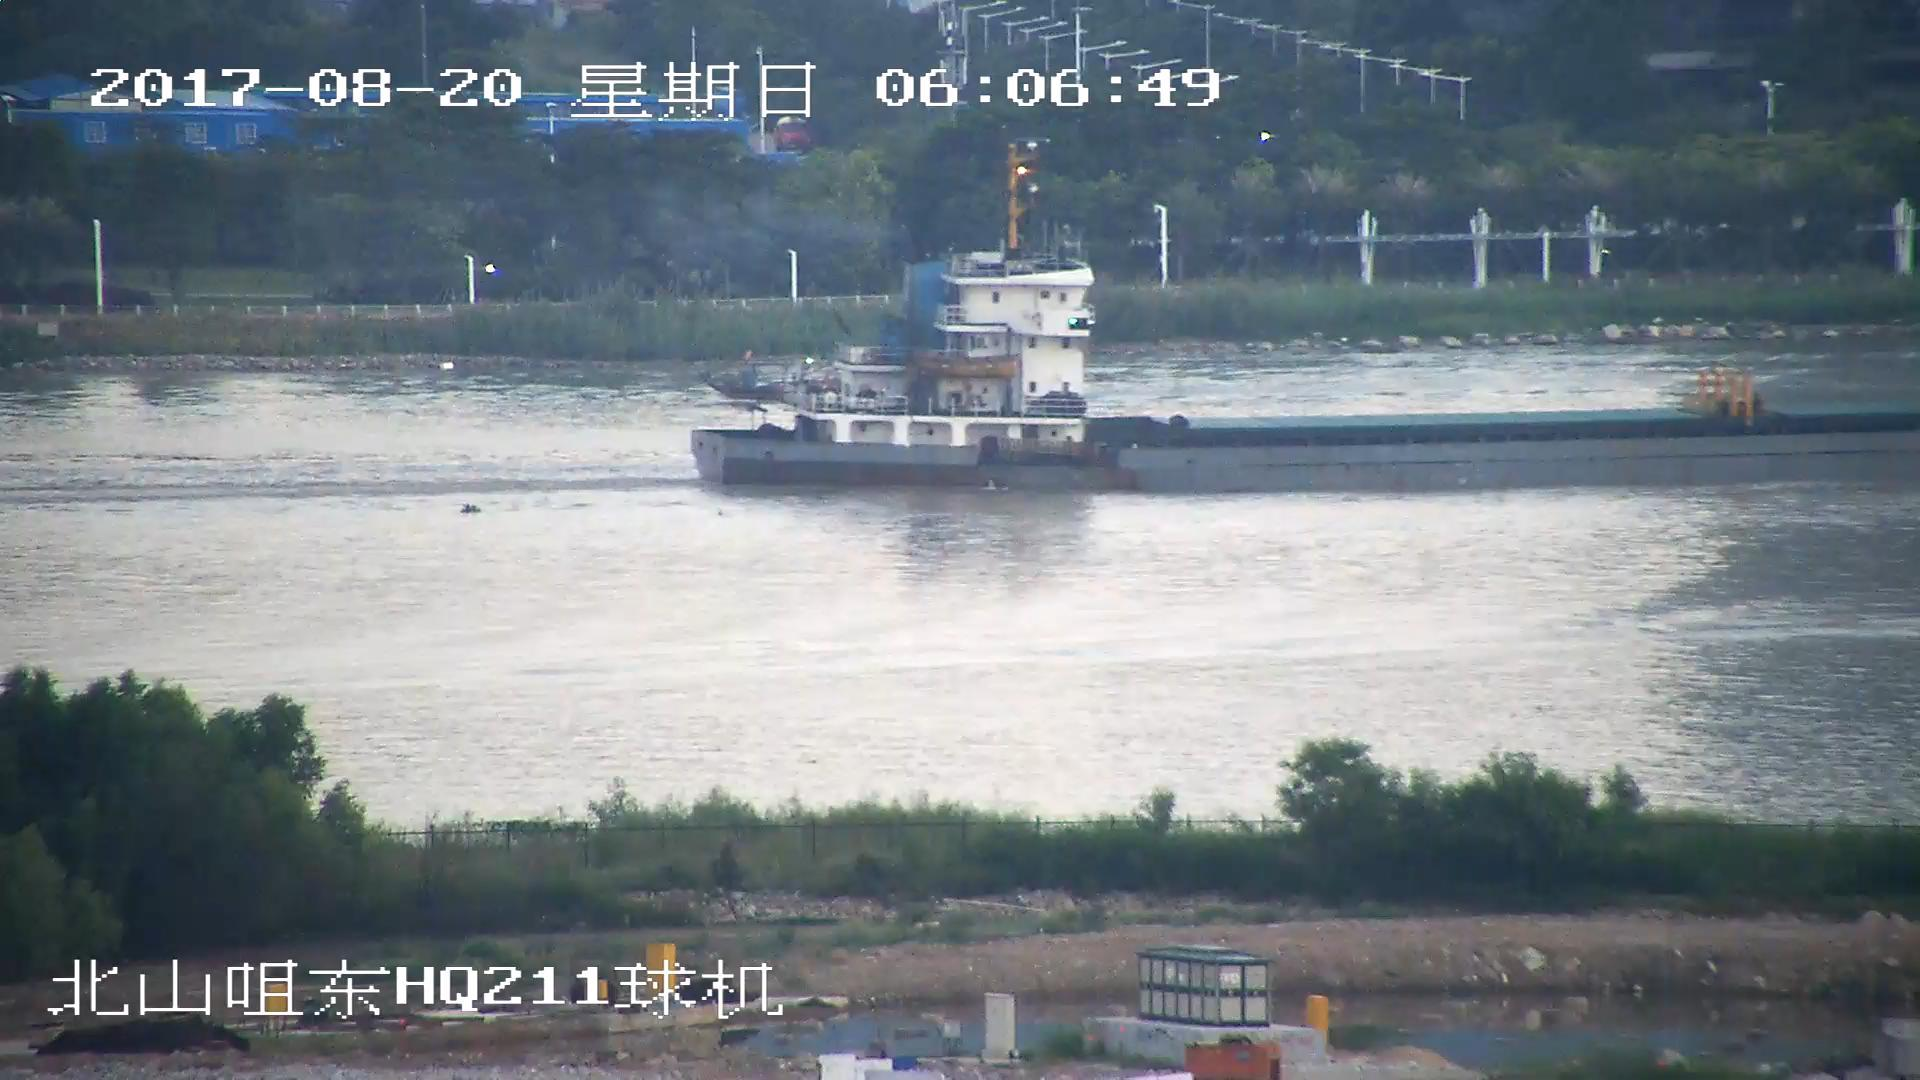Ship: (686, 199, 1920, 489)
